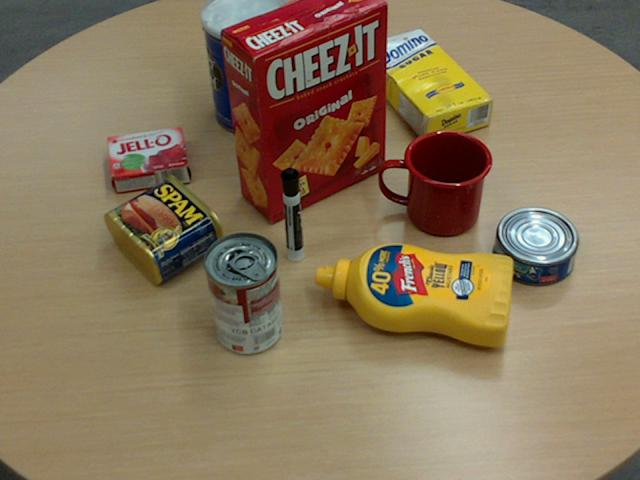cracker_box: (219, 0, 387, 221)
gelatin_box: (106, 125, 189, 191)
large_marker: (279, 168, 304, 262)
master_chef_can: (201, 0, 294, 135)
mug: (379, 128, 492, 235)
mustard_bottle: (314, 243, 512, 345)
potted_meat_can: (104, 173, 225, 283)
sugar_box: (360, 27, 493, 143)
tomato_soup_can: (201, 231, 282, 353)
tuna_fish_can: (493, 206, 578, 284)
